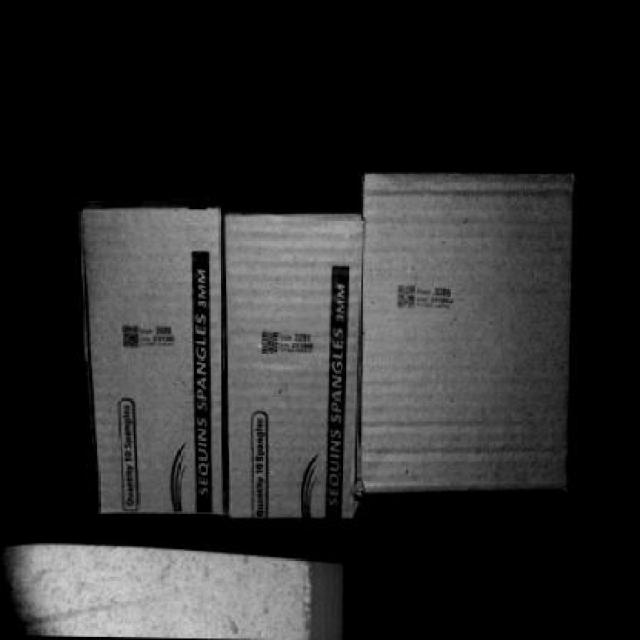cardboxes: (365, 174, 569, 486), (78, 208, 238, 515), (231, 212, 366, 519)
